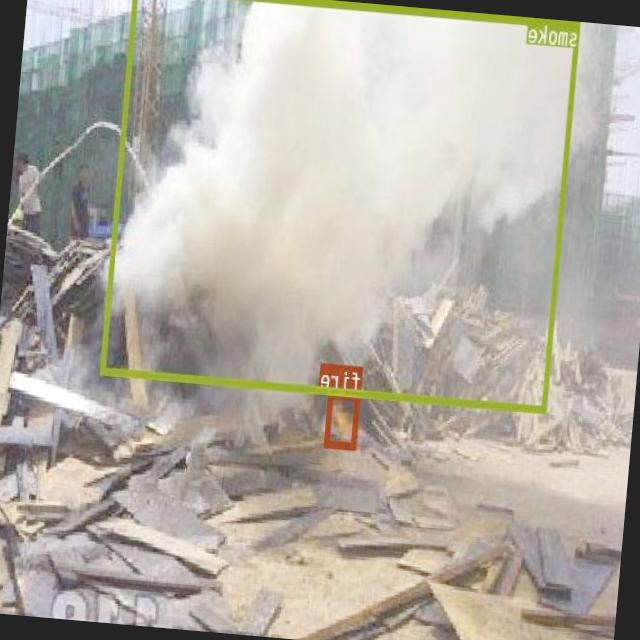fire: (324, 390, 362, 450)
smoke: (101, 0, 581, 411)
